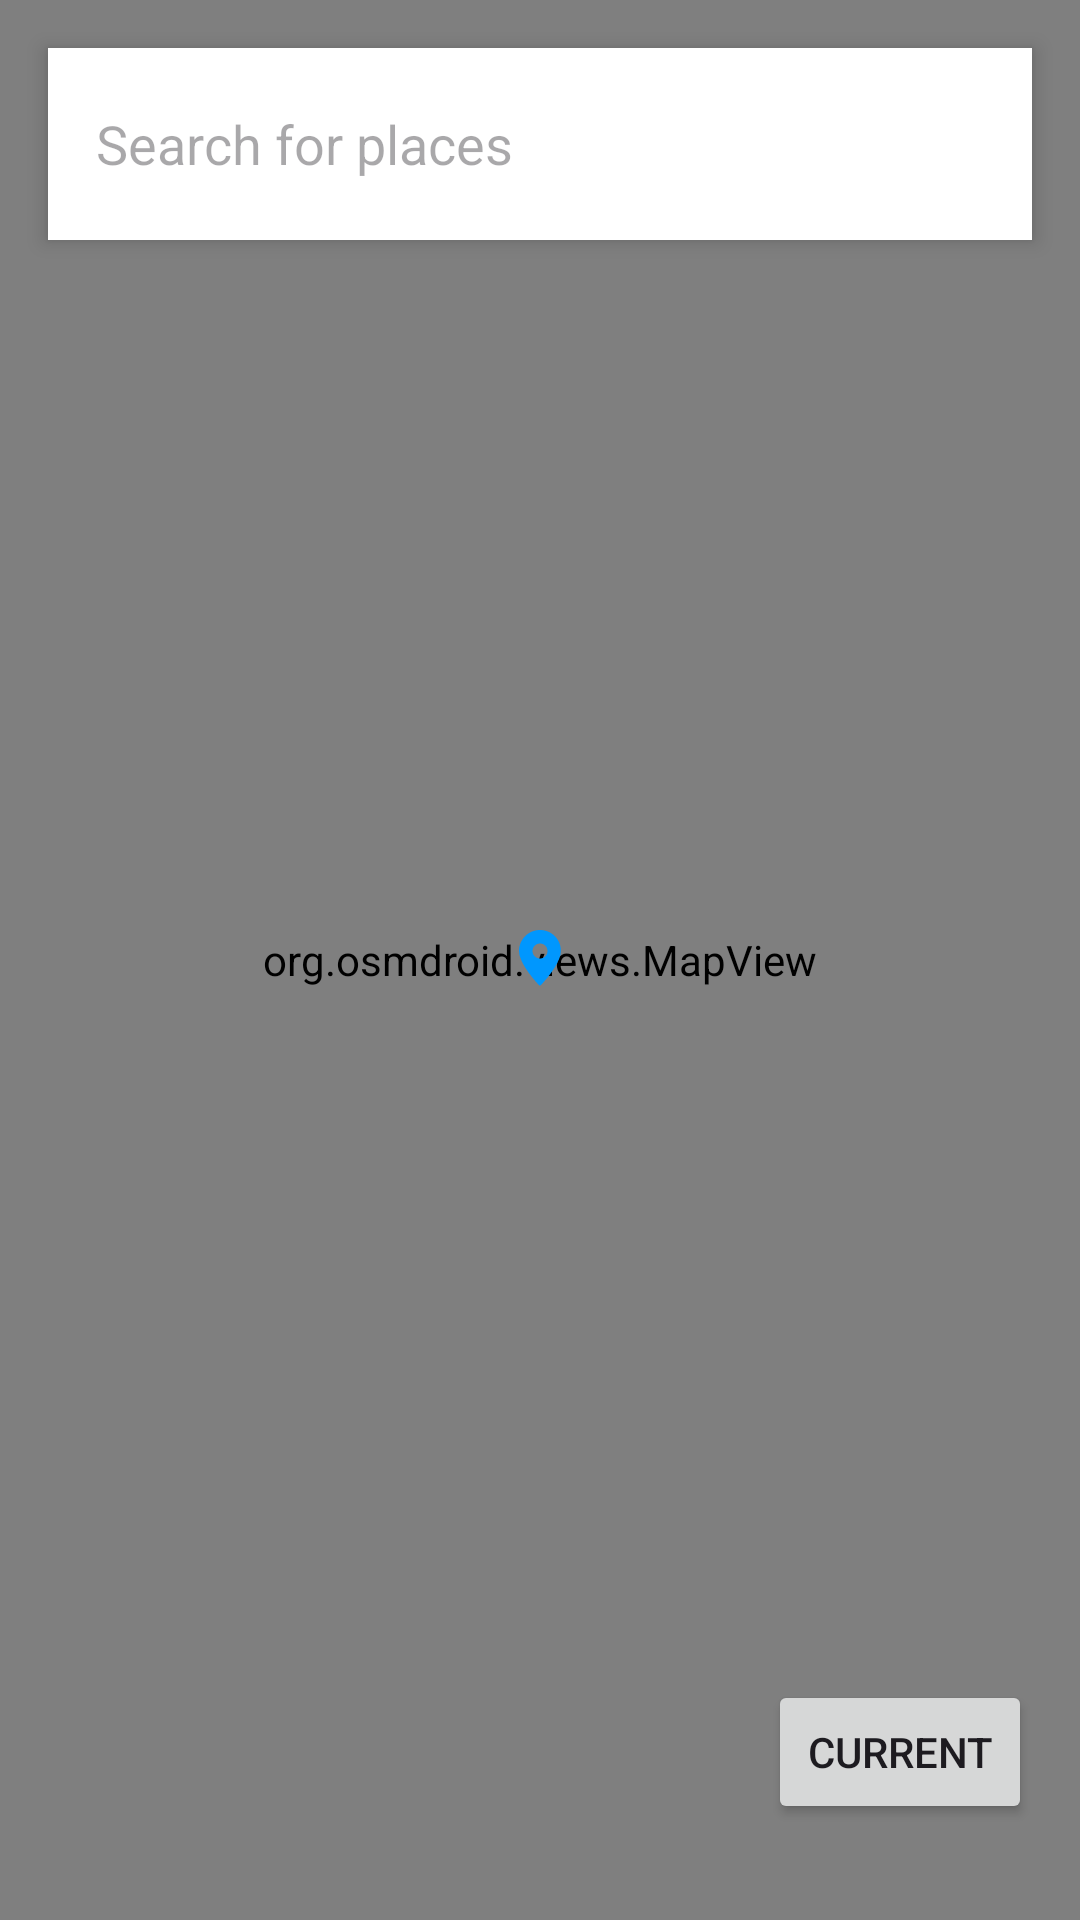

Locate icon controls on the screen. Image size 1080 × 1920, boxes as (x1, y1, x2, y2).
marker: (517, 930, 576, 986)
